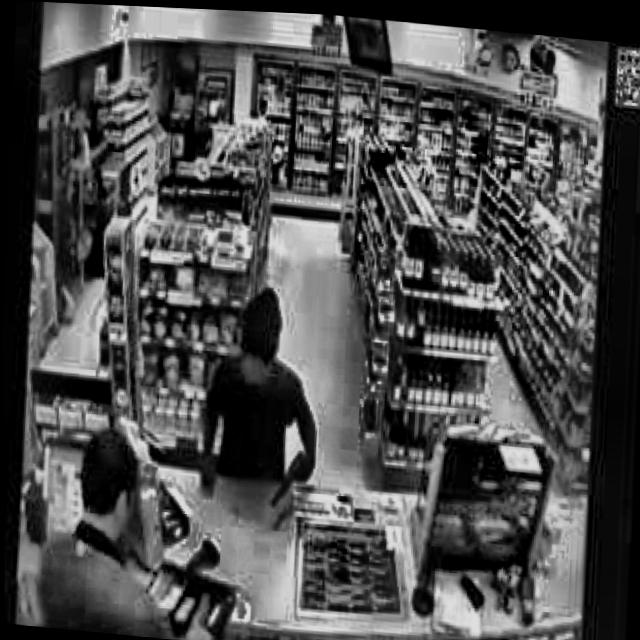robbery: (185, 273, 328, 517)
